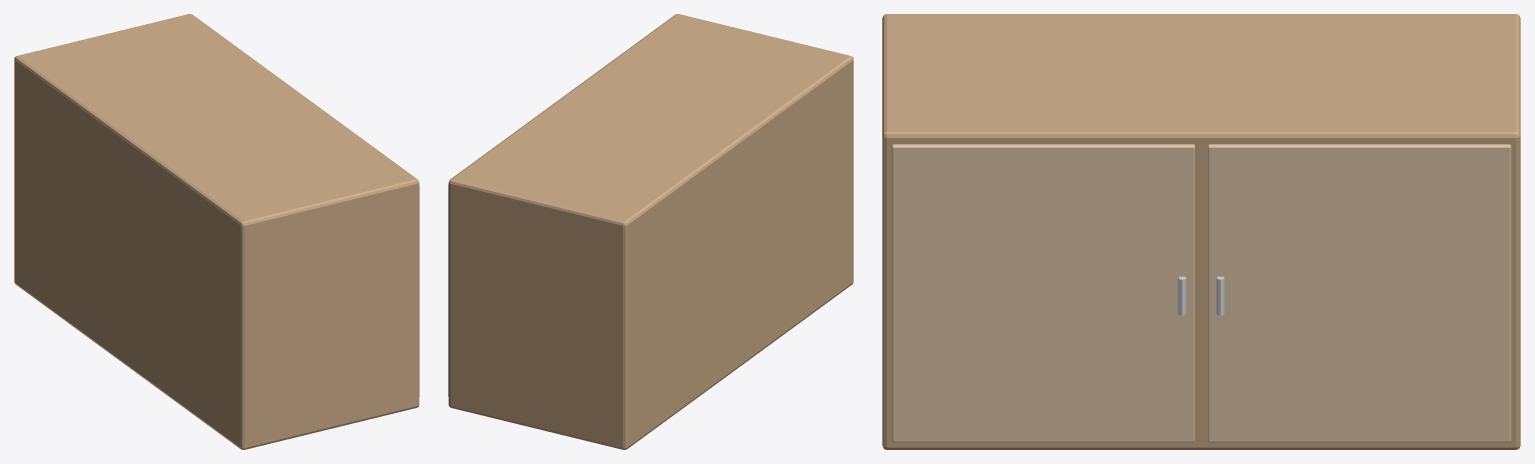
File: wardrobe.glb
3 views of the same model, side by side, from view 1: azimuth 30°, elevation 25°; view 2: azimuth 150°, elevation 25°; view 3: azimuth 270°, elevation 25° (orthographic). The views are drawn at different scales.
Visible parts, largest first — view 1: Wardrobe; view 2: Wardrobe; view 3: Wardrobe.
Boxes of the visible parts, x1,y1,x2,y2 form: Wardrobe: (14, 14, 419, 449); Wardrobe: (448, 14, 853, 449); Wardrobe: (882, 14, 1520, 449).
Bounding box in the file's own units: 1.88 × 2.2 × 4.
